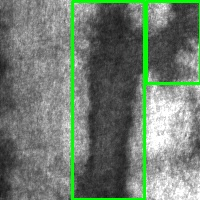patches: (72, 1, 144, 199), (146, 1, 200, 83)
